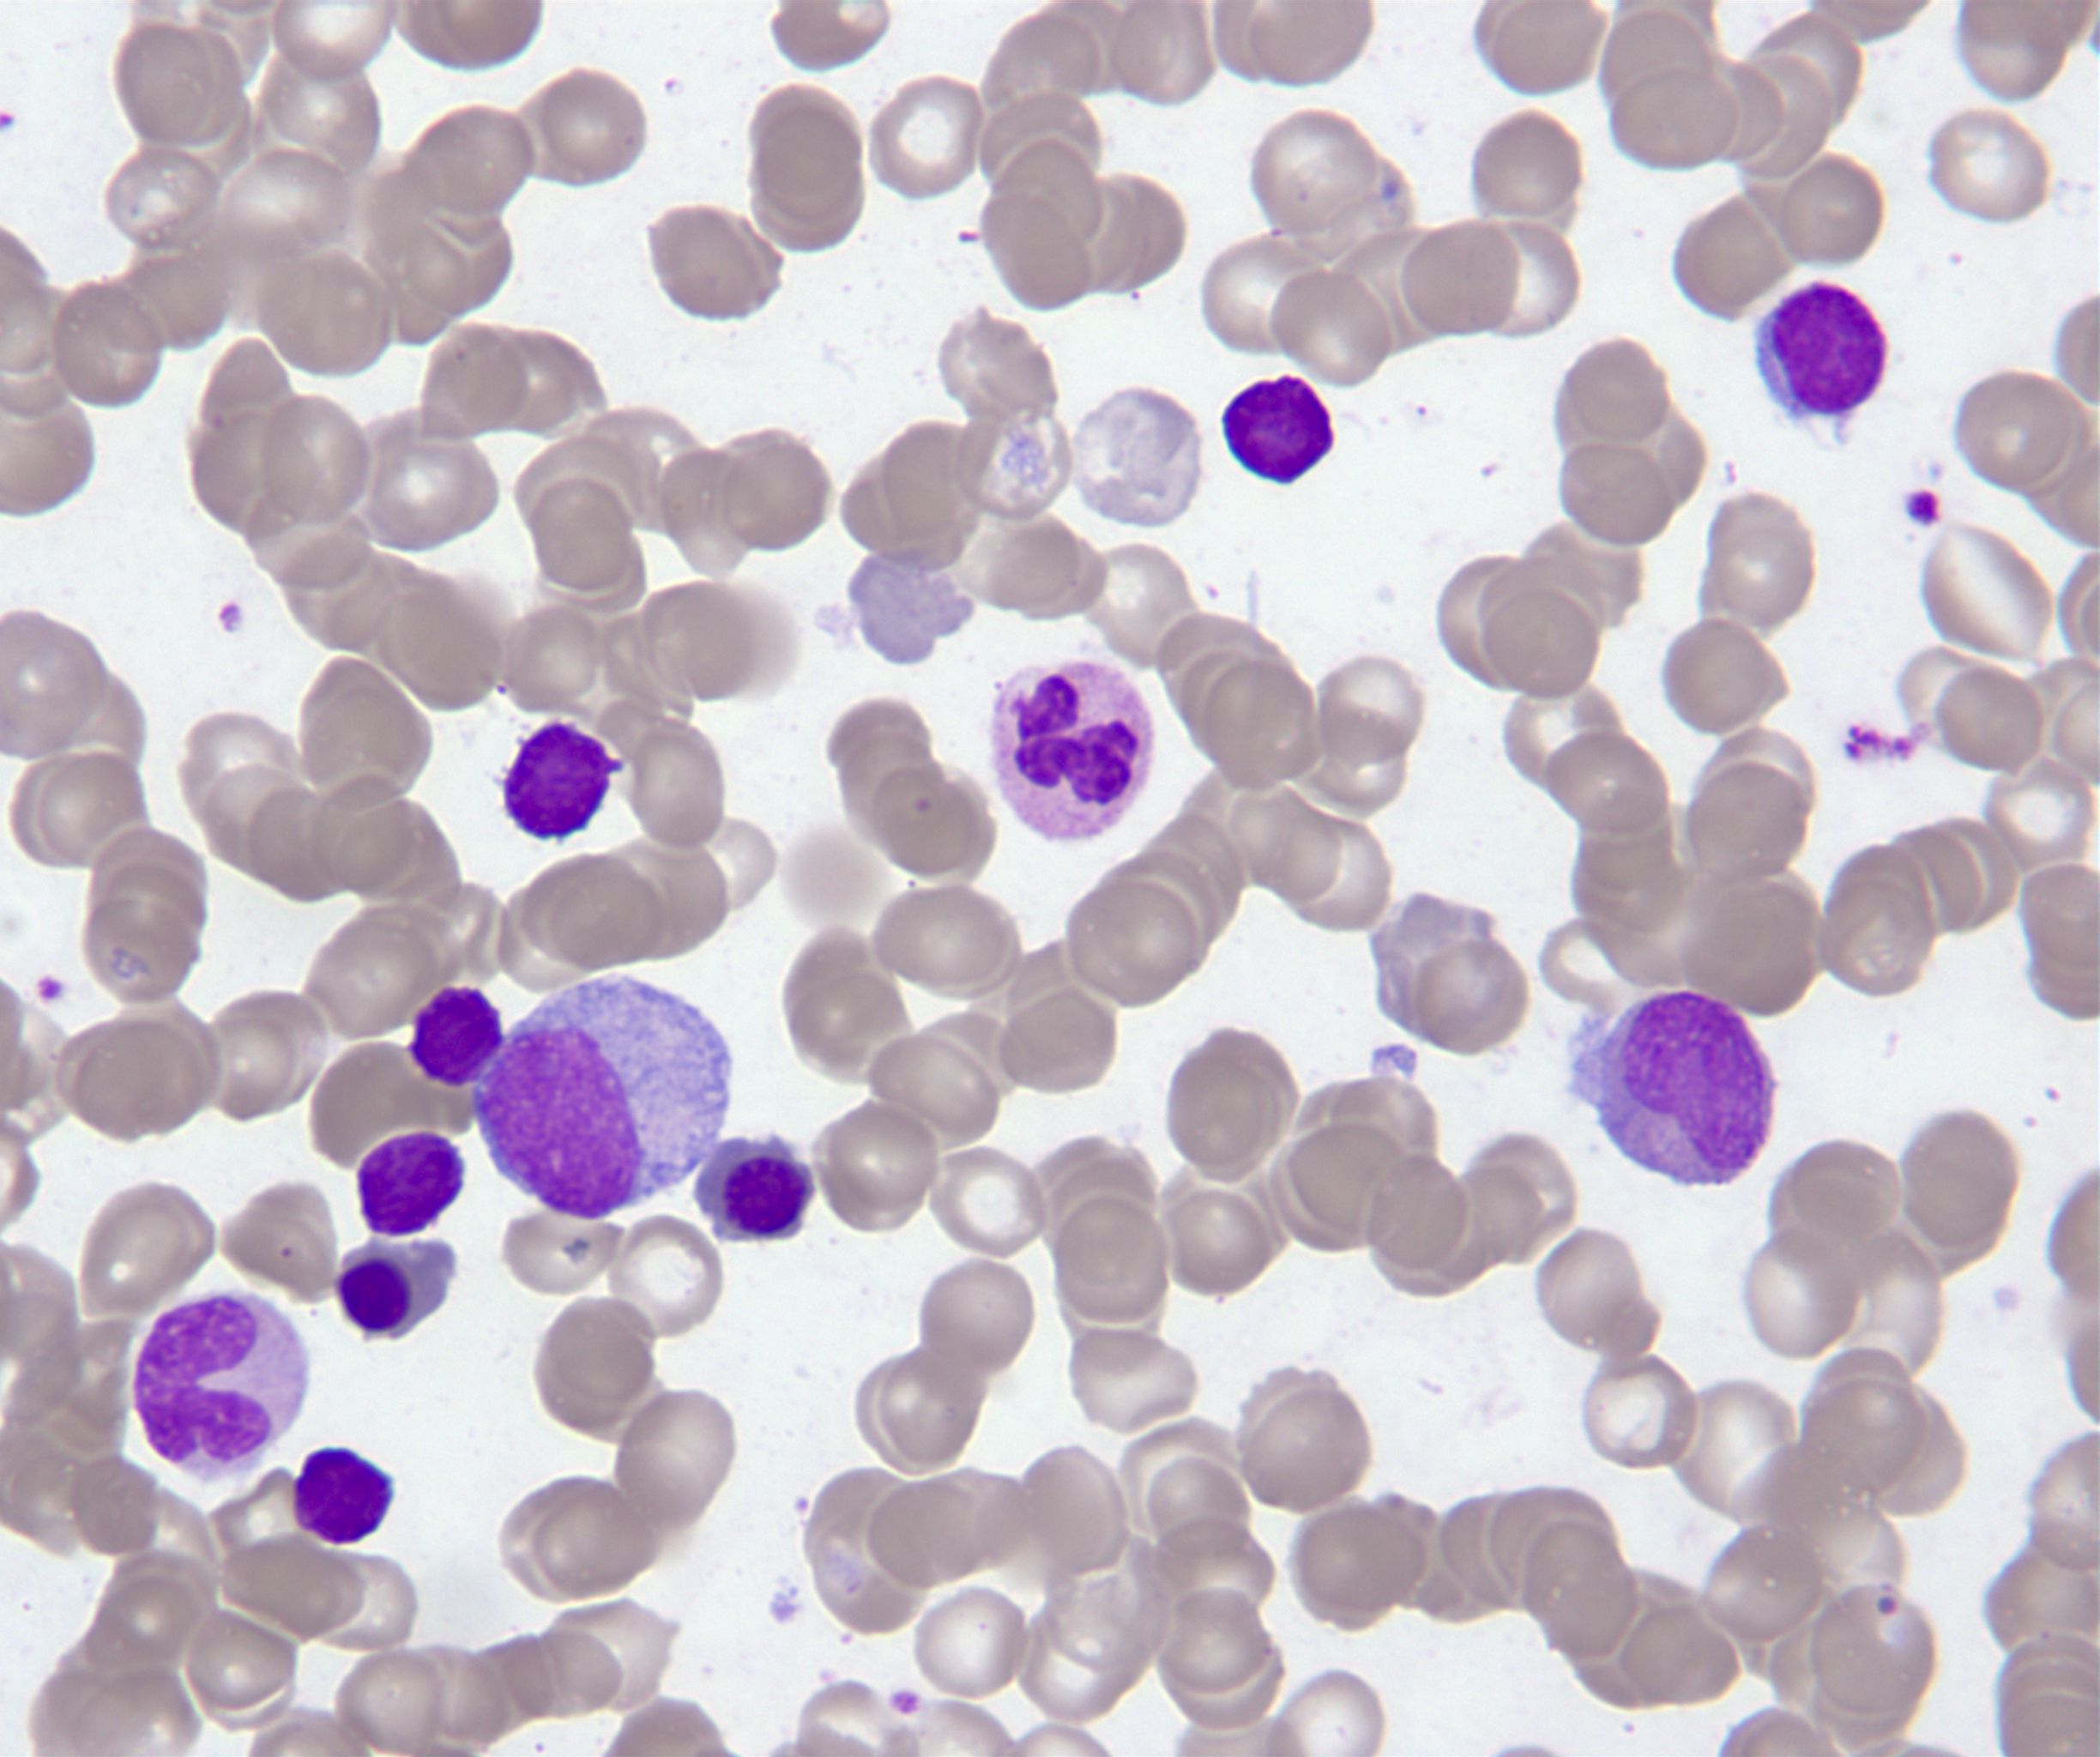24: (687, 1125, 823, 1248), (326, 1239, 466, 1349)
3: (467, 970, 738, 1227), (1587, 984, 1788, 1197)
32: (1751, 277, 1898, 424), (495, 715, 633, 848), (349, 1118, 474, 1241), (1214, 368, 1338, 490), (290, 1443, 399, 1553)
5: (129, 1286, 317, 1488)
6: (984, 653, 1156, 850)
x: (401, 982, 511, 1094)
